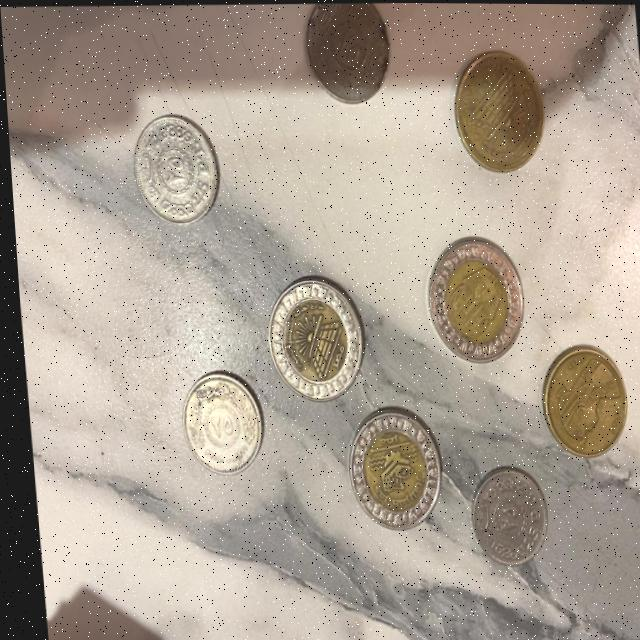Half Pound: (428, 38, 561, 181), (525, 337, 640, 466)
One Pound: (252, 261, 370, 409), (409, 226, 528, 369), (333, 399, 447, 539)
quarter pound: (293, 2, 403, 117), (453, 456, 551, 581), (118, 112, 230, 220), (162, 362, 266, 478)
